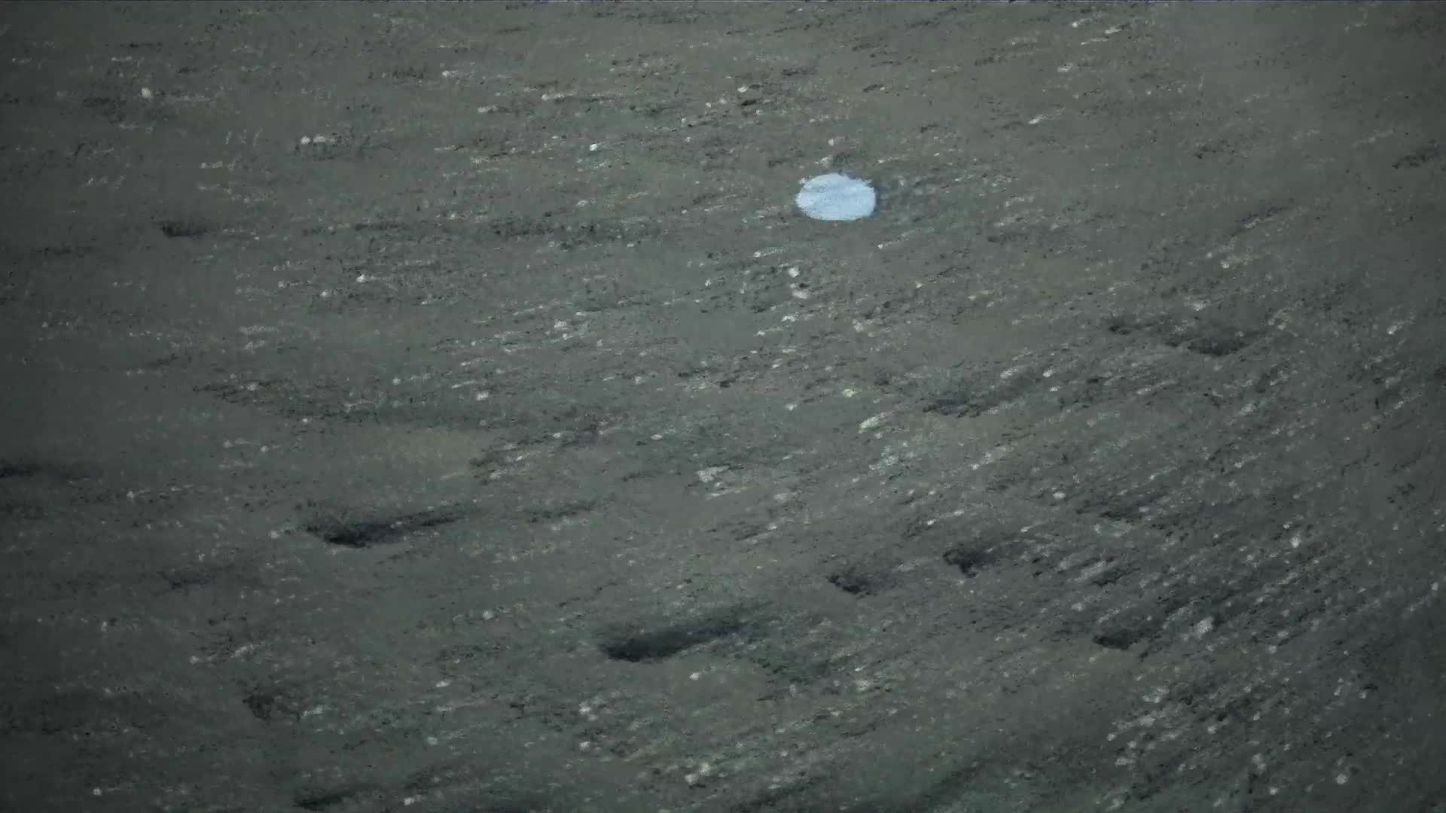Target: (787, 168, 883, 229)
